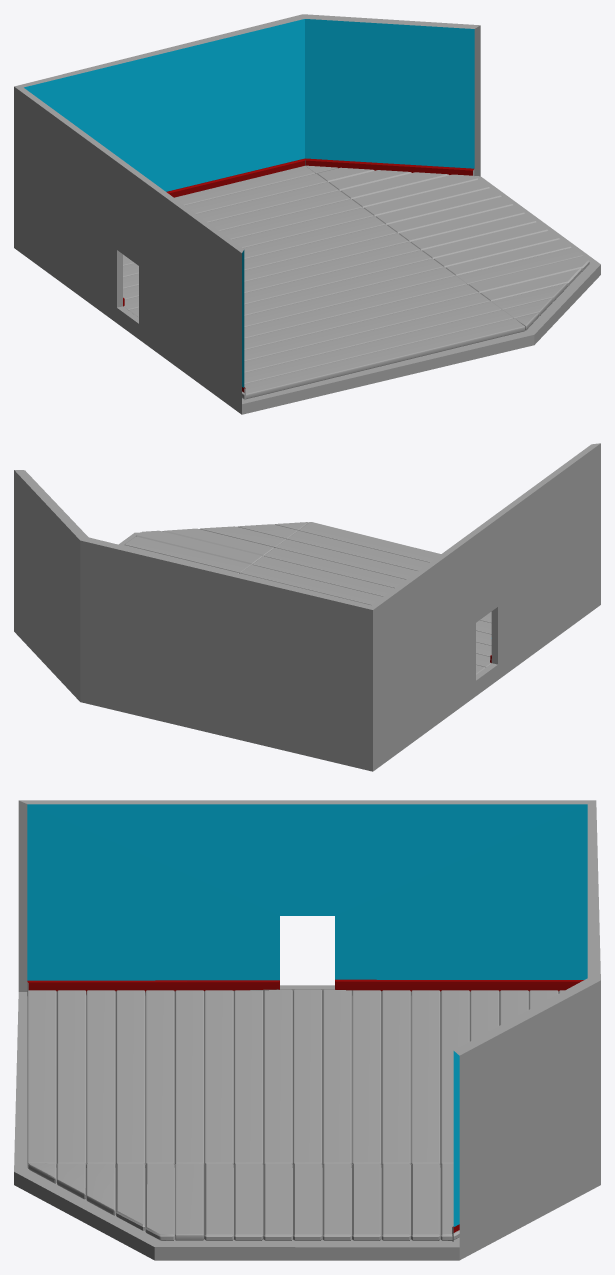
Rendered from entrance2.fbx.
3 views of the same model, one above another, from view 1: azimuth 30°, elevation 25°; view 2: azimuth 150°, elevation 25°; view 3: azimuth 270°, elevation 25° (orthographic). The views are drawn at different scales.
Parts seen in each view (by area): view 1: Top_Wall, RightWall, BottomRightWall, polySurface7, FloorBoard, FloorBoard1, FloorBoard2, FloorBoard3, FloorBoard4, FloorBoard5, FloorBoard6, FloorBoard7 (+26 smaller); view 2: RightWall, Top_Wall, BottomRightWall, polySurface7, FloorBoard5, FloorBoard4, FloorBoard1, FloorBoard2, FloorBoard3, FloorBoard, BottomFloorBoard5, BottomFloorBoard4 (+3 smaller); view 3: Top_Wall, BottomRightWall, polySurface7, FloorBoard9, FloorBoard10, FloorBoard8, FloorBoard, FloorBoard11, FloorBoard13, FloorBoard6, FloorBoard4, FloorBoard3 (+23 smaller).
Boxes of the visible parts, bbox=[...] form: Top_Wall: bbox=[14, 86, 245, 403]; RightWall: bbox=[14, 14, 305, 197]; BottomRightWall: bbox=[303, 14, 480, 176]; polySurface7: bbox=[14, 176, 600, 414]; FloorBoard: bbox=[242, 318, 525, 399]; FloorBoard1: bbox=[244, 310, 513, 384]; FloorBoard2: bbox=[244, 301, 501, 372]; FloorBoard3: bbox=[244, 293, 490, 361]; FloorBoard4: bbox=[244, 284, 478, 349]; FloorBoard5: bbox=[244, 276, 466, 338]; FloorBoard6: bbox=[244, 267, 455, 327]; FloorBoard7: bbox=[244, 259, 443, 315]; RightWall: bbox=[80, 537, 372, 760]; Top_Wall: bbox=[370, 443, 600, 760]; BottomRightWall: bbox=[14, 470, 88, 691]; polySurface7: bbox=[14, 522, 600, 771]; FloorBoard5: bbox=[241, 565, 491, 634]; FloorBoard4: bbox=[252, 556, 491, 622]; FloorBoard1: bbox=[287, 530, 429, 570]; FloorBoard2: bbox=[275, 539, 417, 579]; FloorBoard3: bbox=[264, 548, 405, 588]; FloorBoard: bbox=[299, 522, 440, 562]; BottomFloorBoard5: bbox=[124, 536, 250, 573]; BottomFloorBoard4: bbox=[136, 530, 262, 564]; Top_Wall: bbox=[18, 800, 595, 995]; BottomRightWall: bbox=[452, 978, 600, 1246]; polySurface7: bbox=[14, 992, 600, 1260]; FloorBoard9: bbox=[293, 989, 322, 1167]; FloorBoard10: bbox=[322, 989, 351, 1167]; FloorBoard8: bbox=[263, 989, 292, 1167]; FloorBoard: bbox=[27, 990, 56, 1168]; FloorBoard11: bbox=[352, 990, 381, 1167]; FloorBoard13: bbox=[411, 990, 440, 1167]; FloorBoard6: bbox=[204, 990, 233, 1167]; FloorBoard4: bbox=[145, 990, 174, 1167]; FloorBoard3: bbox=[116, 990, 145, 1167].
Size of the model in its own units: 10.26 by 3.84 by 9.97.
